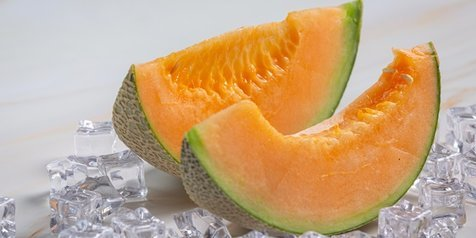Melon: (191, 46, 458, 238), (112, 1, 377, 149)
